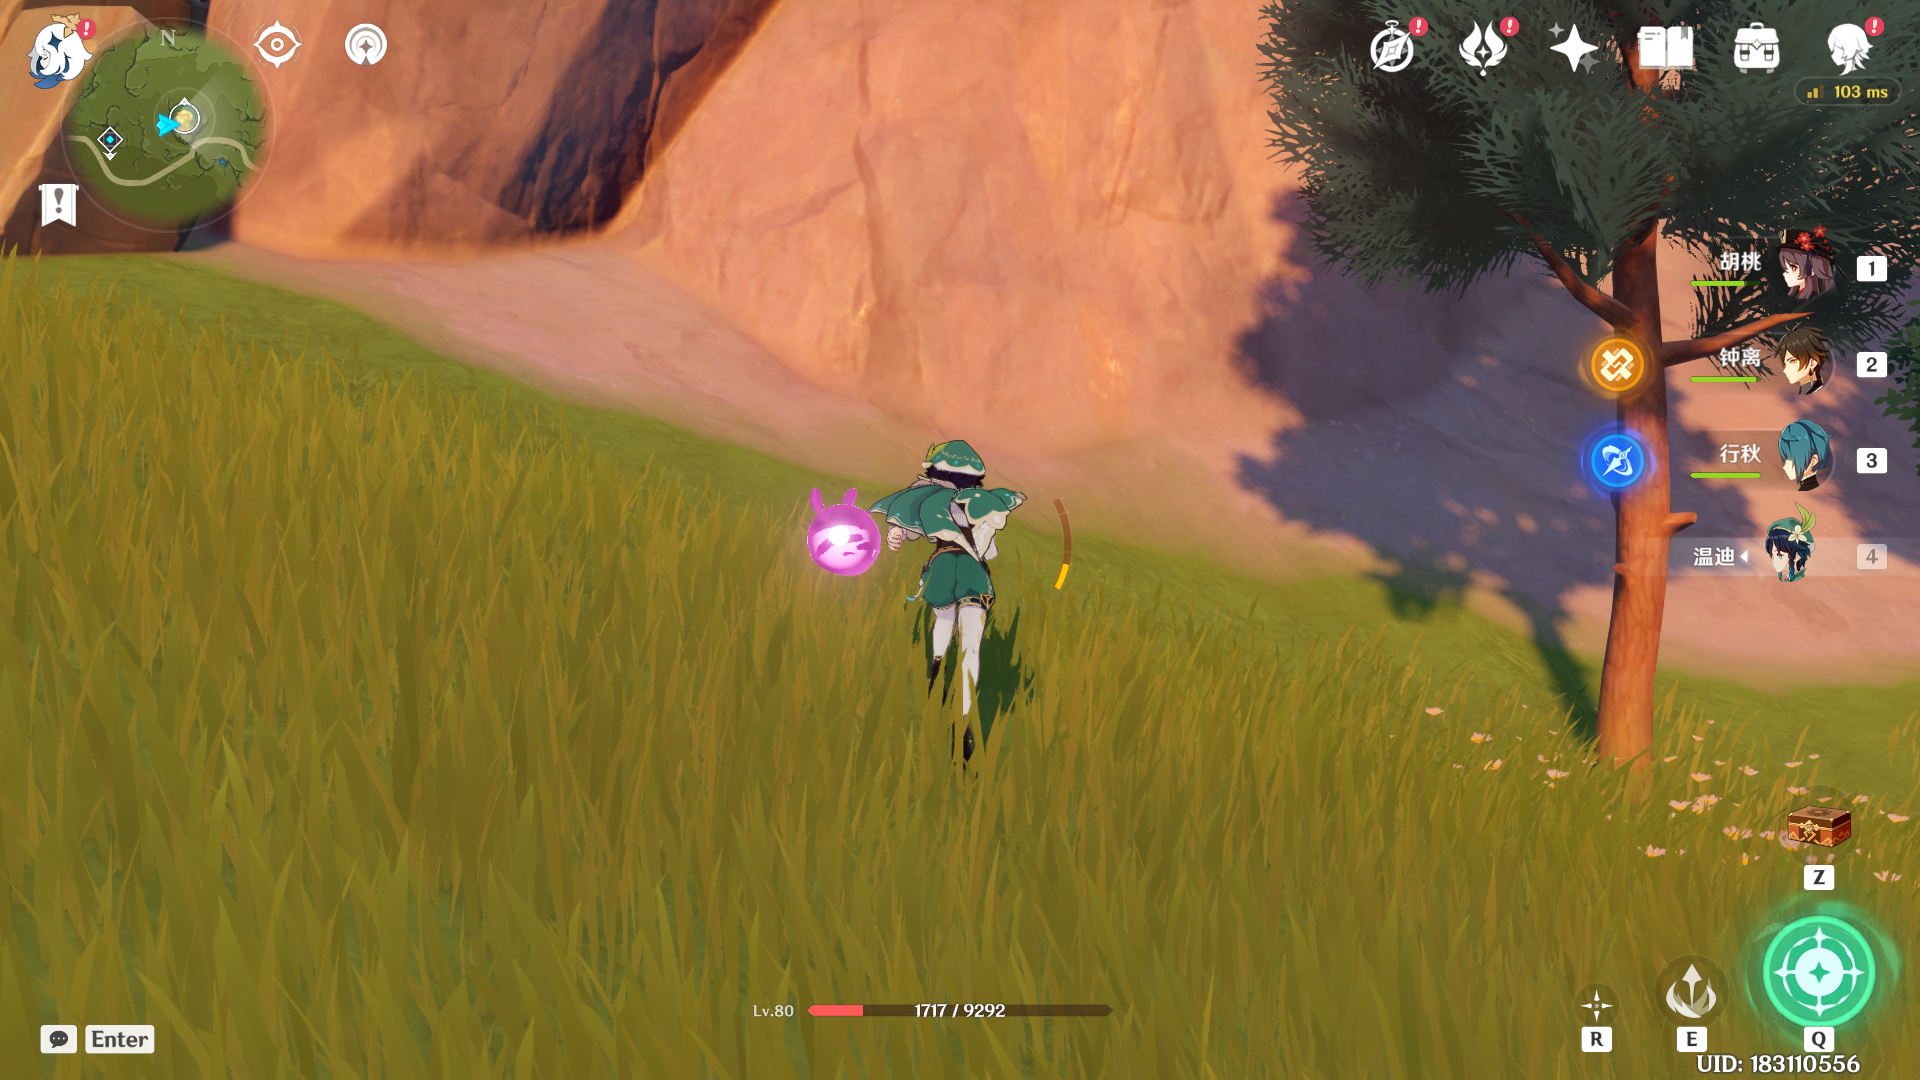character: (876, 392, 1063, 756)
